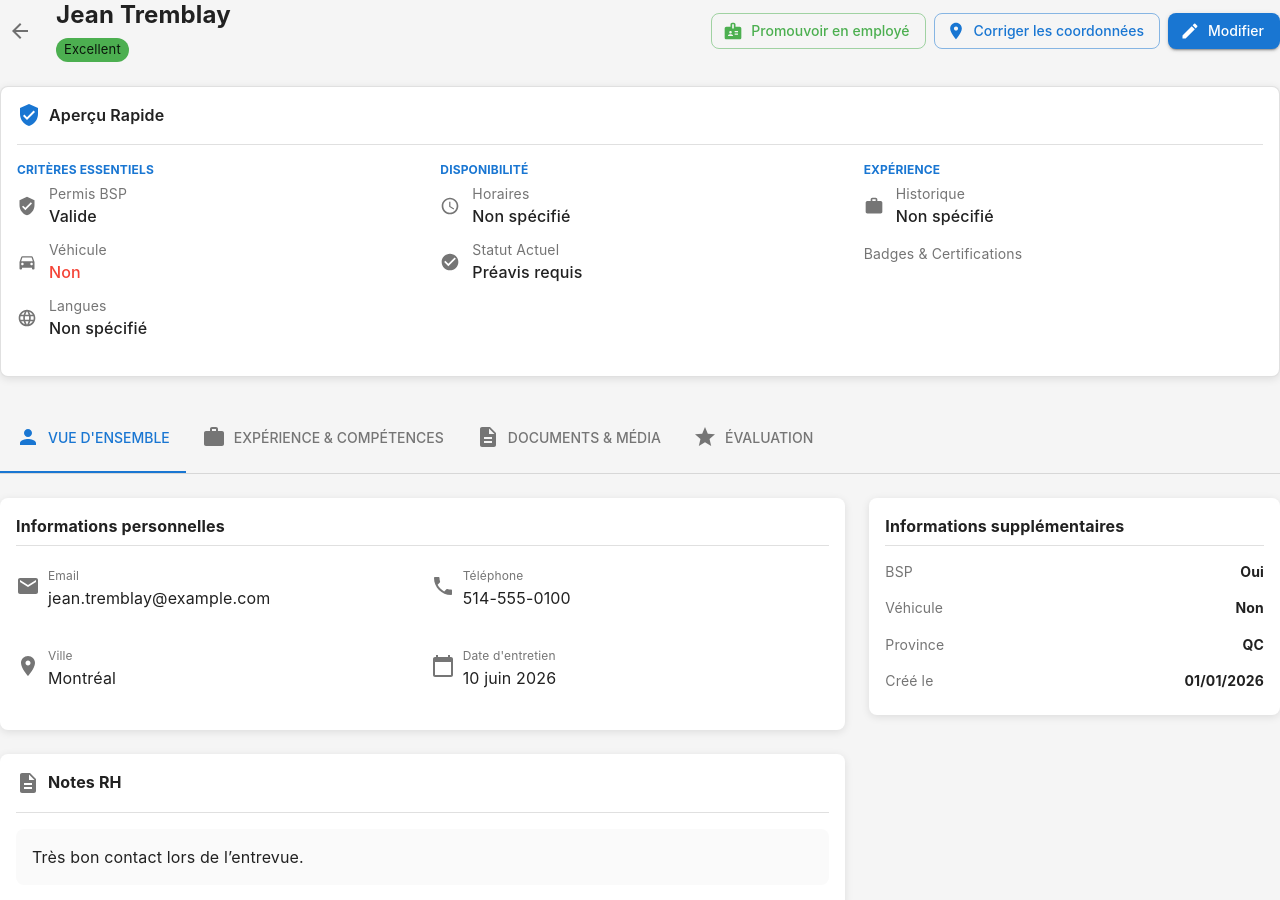
Test: CandidateDetailPage › affiche l’état vide des expériences dans l’onglet compétences
Expected: the heading "Jean Tremblay" is shown, [56,0,231,30]
Click the tab "Expérience & Compétences".
click(323, 437)  # box [186,401,460,473]
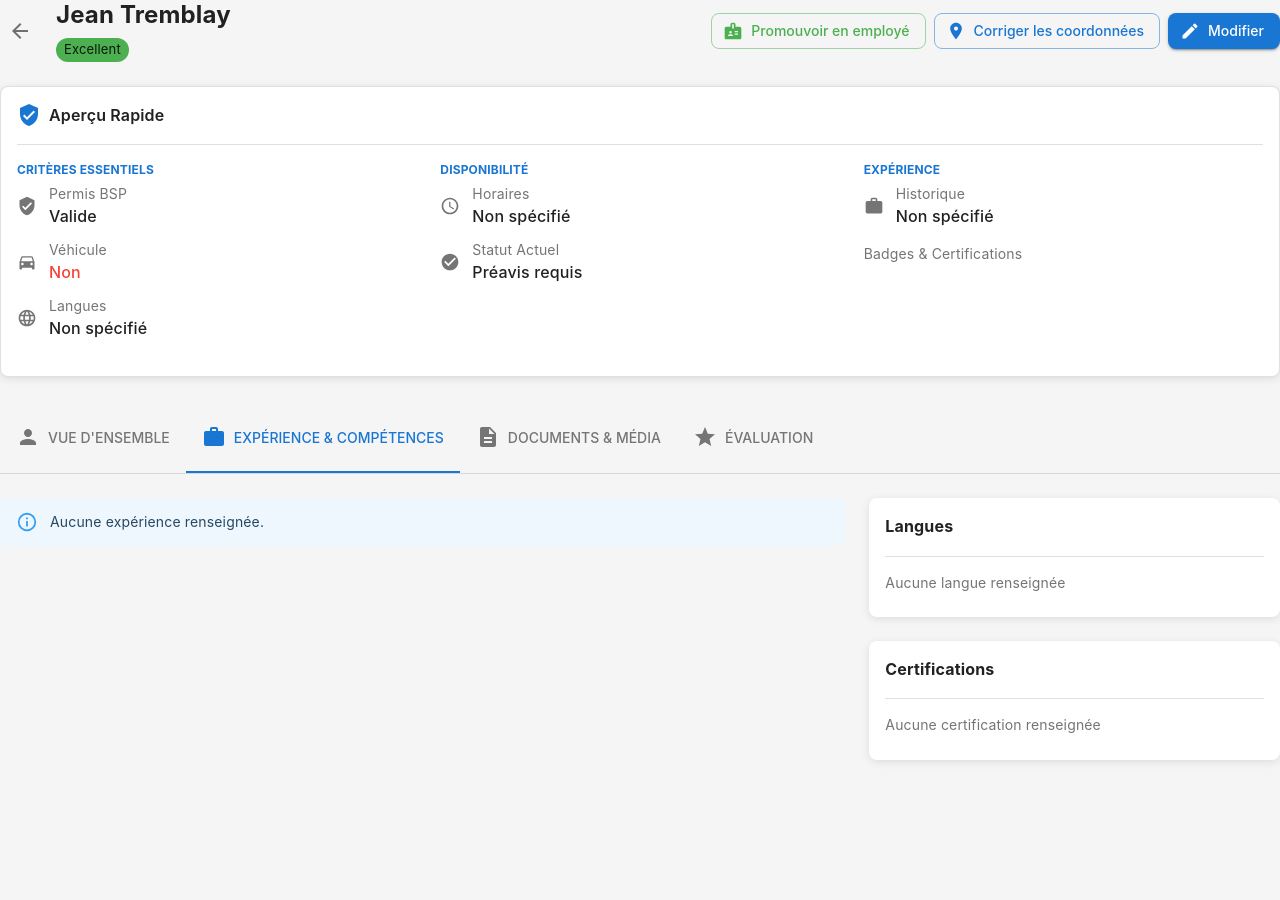
Now the text "Aucune expérience renseignée." is shown, box [50,513,264,530]
Now the text "Aucune langue renseignée" is shown, box [885,574,1066,591]
